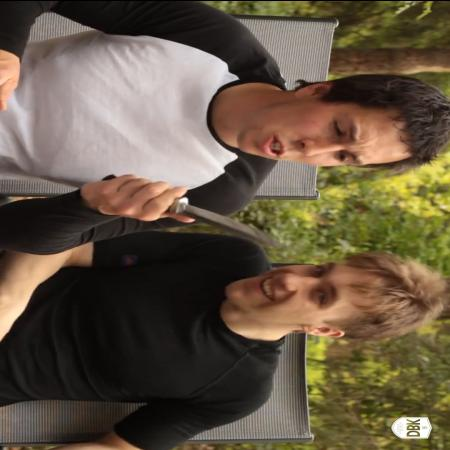long weapon: (129, 174, 299, 252)
